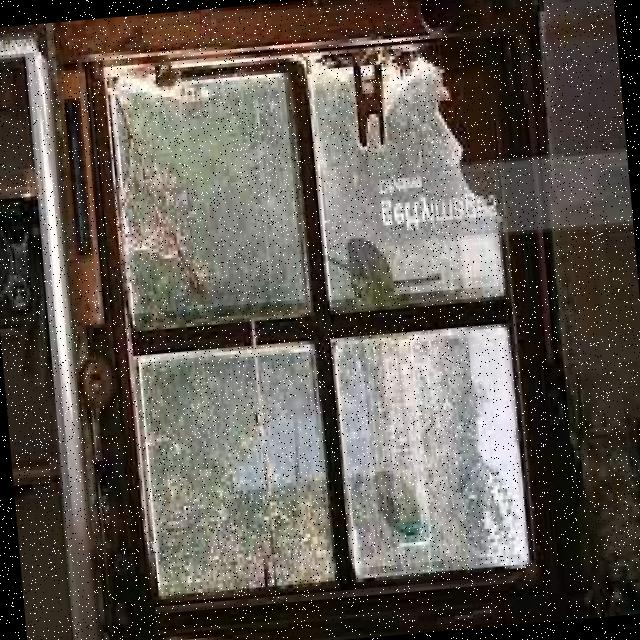Window: (97, 32, 562, 614)
